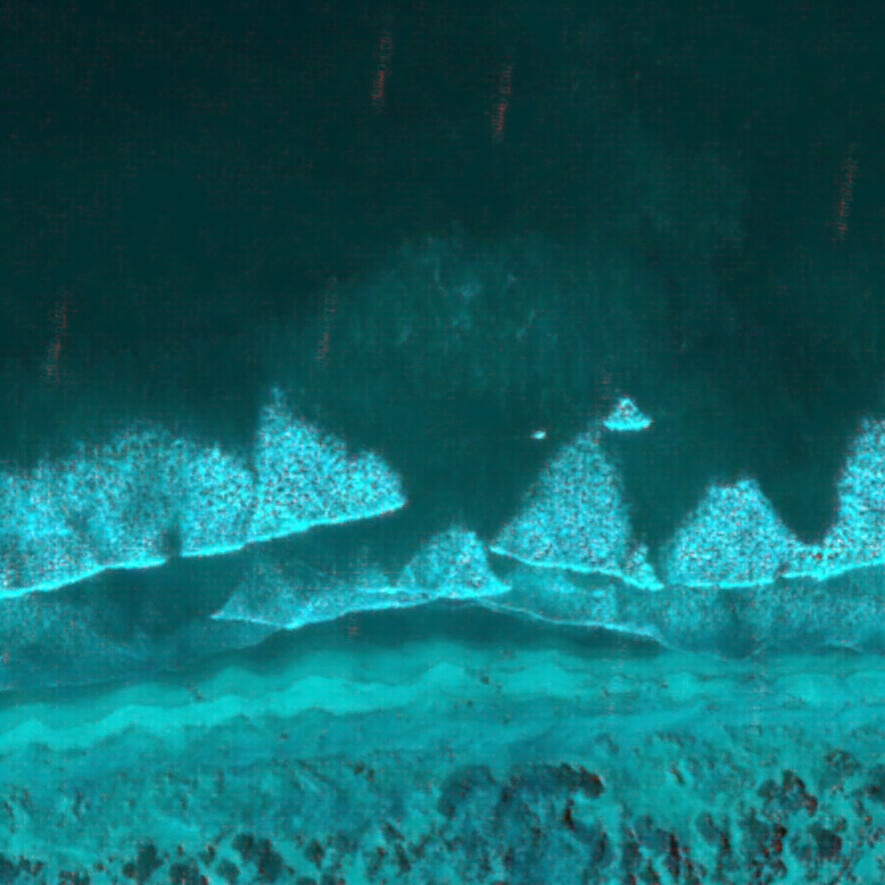rip_current: (279, 273, 581, 584)
